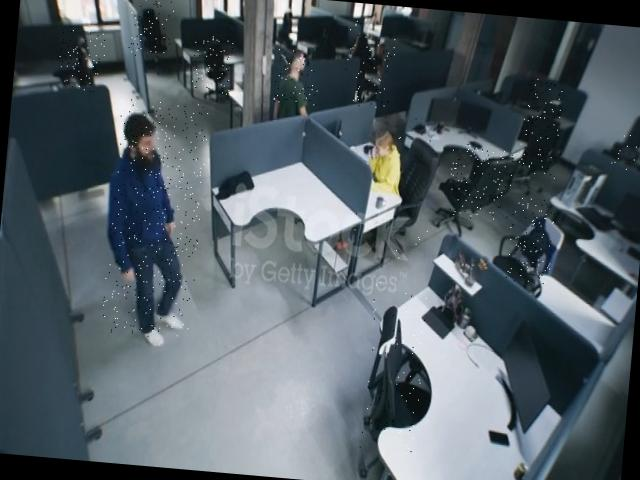empty chair: (358, 281, 428, 460), (446, 142, 514, 221), (518, 77, 562, 180), (506, 197, 556, 284), (56, 28, 106, 92), (126, 0, 175, 58), (190, 35, 233, 98), (609, 129, 640, 172)
occupiedchair: (352, 108, 438, 262), (350, 33, 396, 108)
